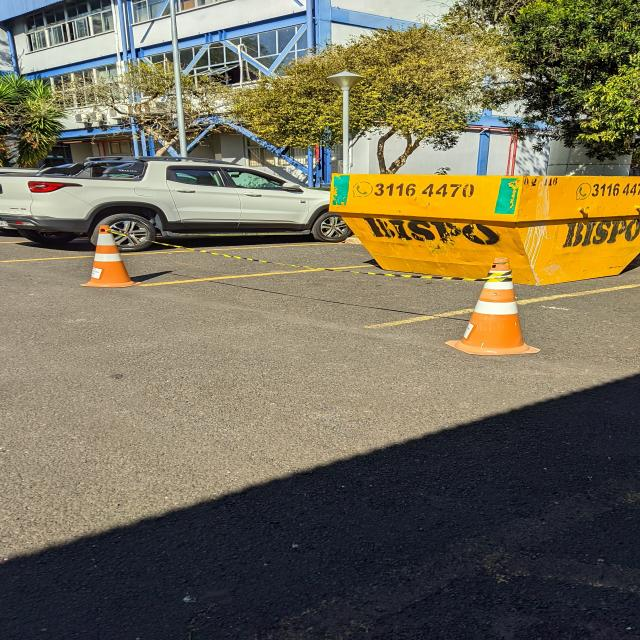cone: (440, 254, 547, 360), (74, 222, 147, 292)
